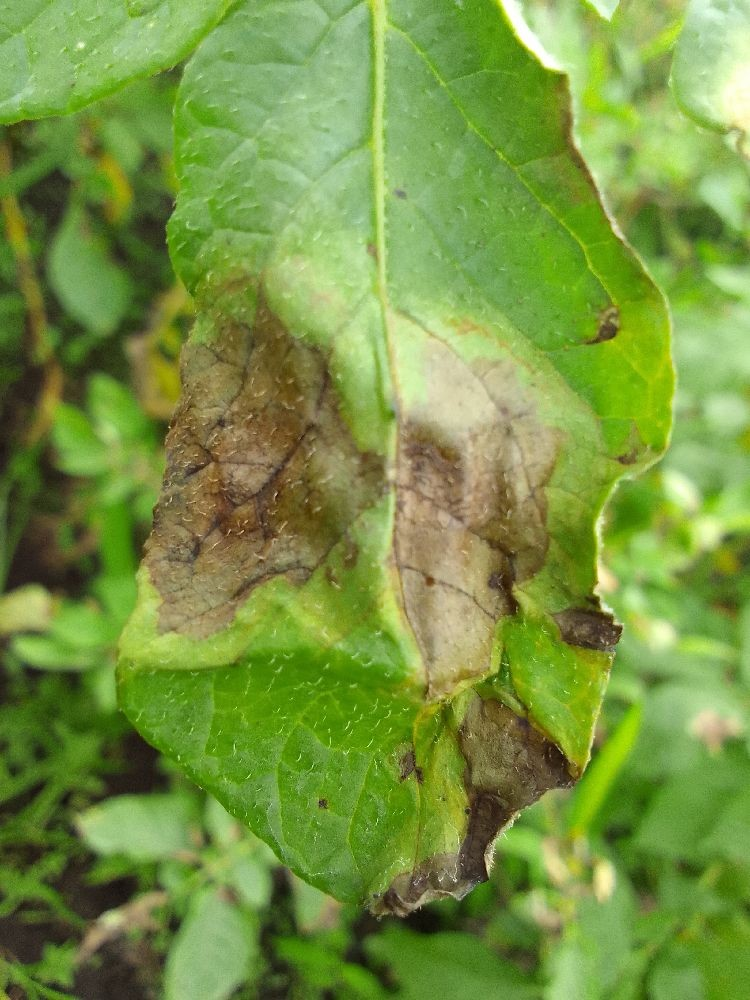late_blight: (111, 275, 601, 936), (0, 698, 214, 1000), (212, 848, 328, 1000), (0, 113, 46, 180)
